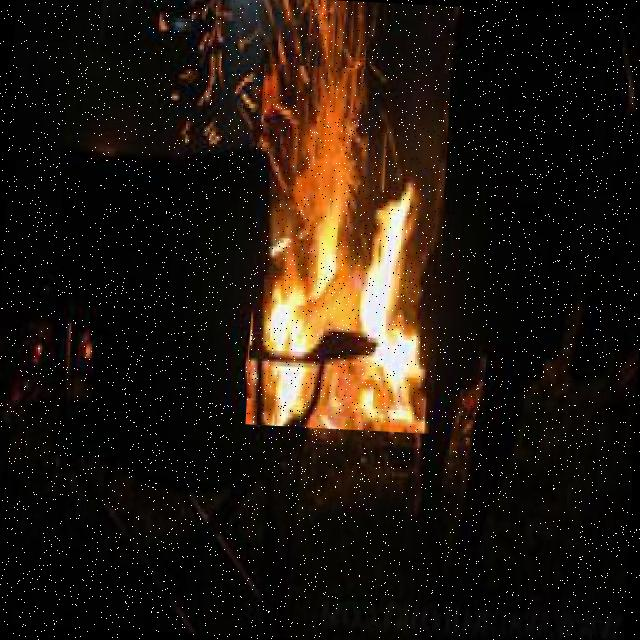fire: (246, 64, 452, 434)
